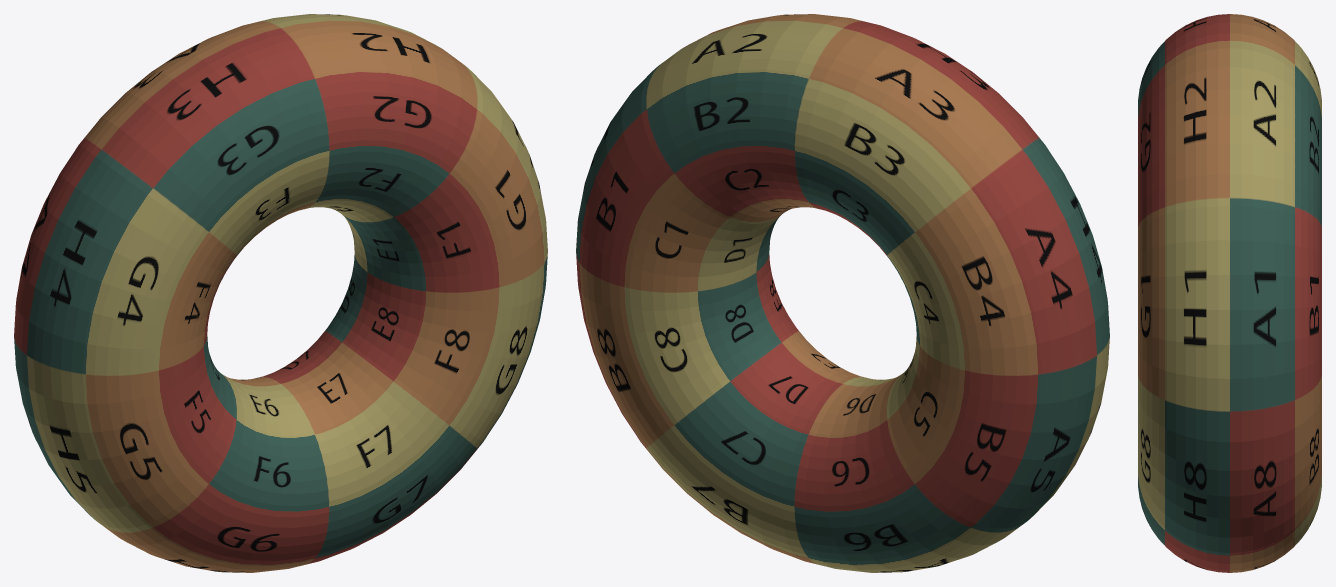
The model's file is texture_torus_R9_r22.glb.
The picture shows the model from 3 angles, left to right: view 1: azimuth 30°, elevation 25°; view 2: azimuth 150°, elevation 25°; view 3: azimuth 270°, elevation 25°; orthographic projection. The views are drawn at different scales.
Parts seen in each view (by area): view 1: world; view 2: world; view 3: world.
Boxes of the visible parts, bbox=[...] form: world: bbox=[14, 14, 547, 572]; world: bbox=[576, 14, 1109, 572]; world: bbox=[1138, 14, 1321, 572].
Size of the model in its own units: 23.87 by 23.82 by 7.85.
Materials: 1 (1 with a texture image).
